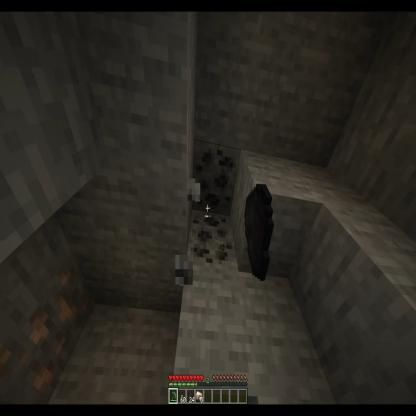coal ore: (190, 145, 242, 214), (185, 211, 237, 269)
iron ore: (0, 256, 95, 399)
